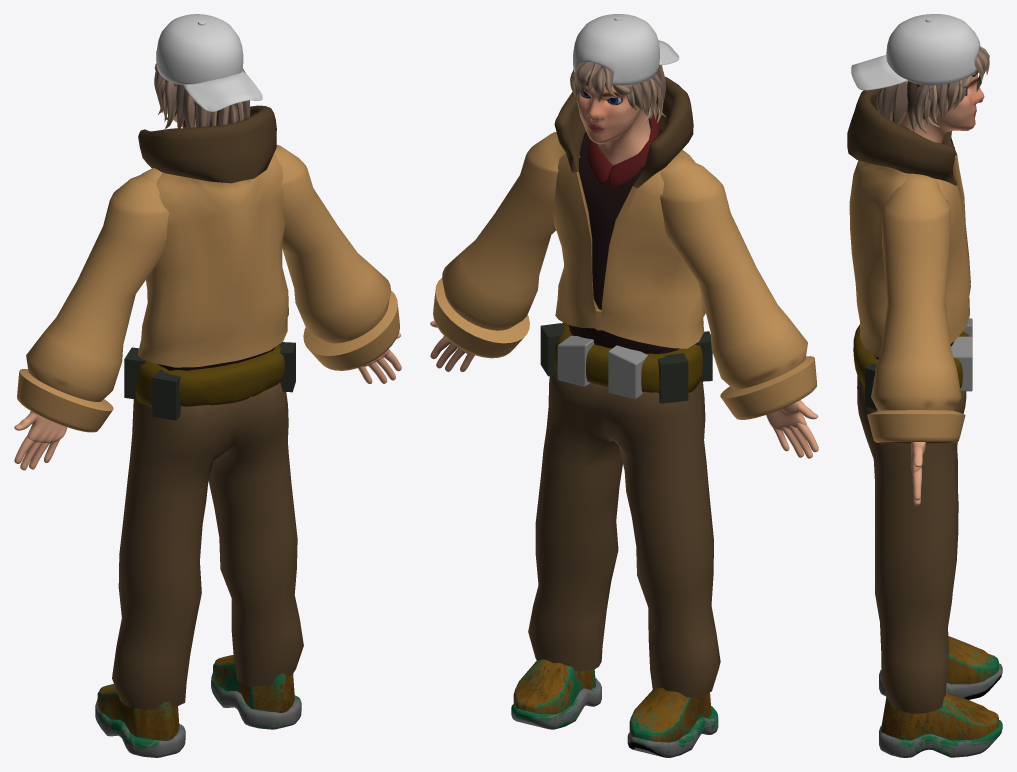
Rendered from MainCharTest.fbx.
3 renders of one model, left to right at view 1: azimuth 30°, elevation 25°; view 2: azimuth 150°, elevation 25°; view 3: azimuth 270°, elevation 25°, orthographic.
Visible parts, largest first — view 1: MainCharTest; view 2: MainCharTest; view 3: MainCharTest.
Part boxes in pixels (x1=…): MainCharTest: x1=14, y1=14, x2=401, y2=757; MainCharTest: x1=430, y1=14, x2=818, y2=757; MainCharTest: x1=847, y1=14, x2=1002, y2=757.
Size of the model in its own units: 346 by 602 by 121.
